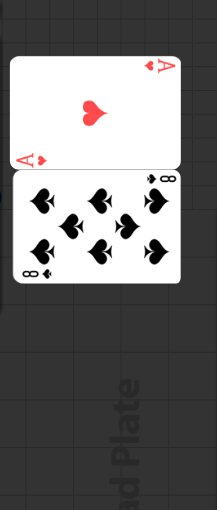8S: (21, 267, 55, 280)
AH: (141, 58, 176, 75)
